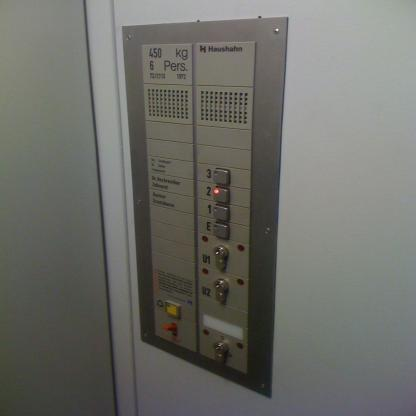alarm: (156, 298, 165, 310)
empty: (212, 165, 230, 185), (163, 300, 183, 318), (212, 186, 230, 204), (212, 221, 230, 239), (213, 203, 230, 222)
keyhole: (210, 245, 228, 271), (212, 278, 229, 304), (212, 339, 229, 364)
switch: (162, 322, 177, 337)
